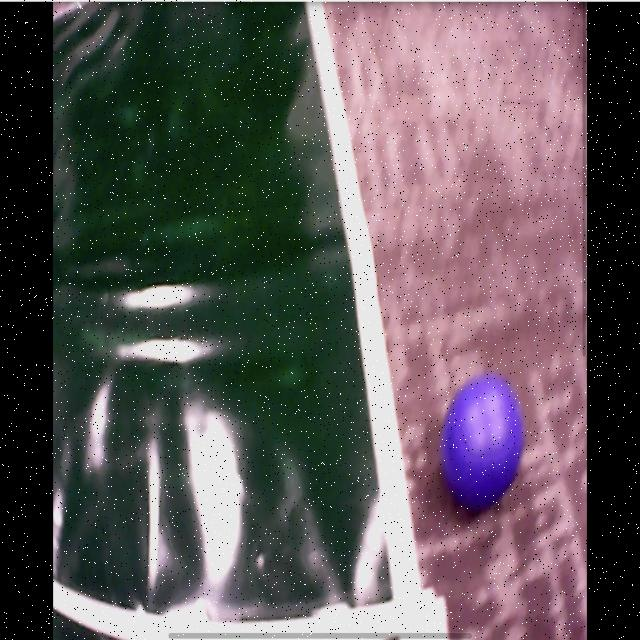ball: (442, 374, 523, 504)
